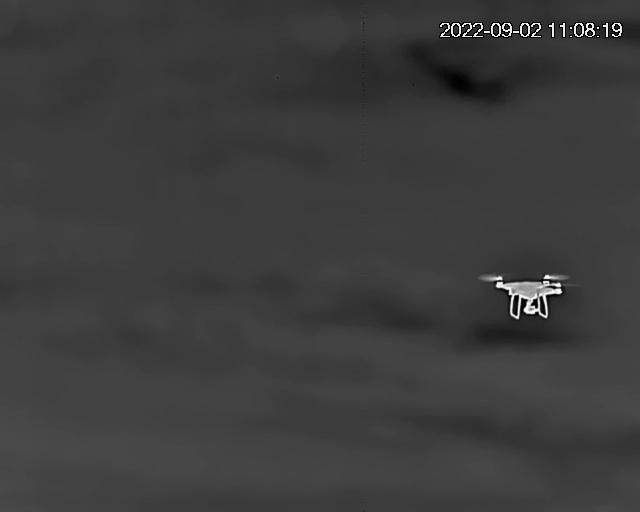DJI-Phantom: (486, 274, 569, 319)
